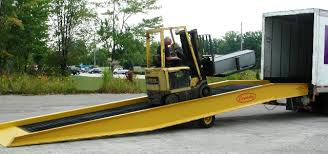Pallet Jack: (144, 26, 224, 106)
Yard Ramp: (2, 79, 309, 147)
